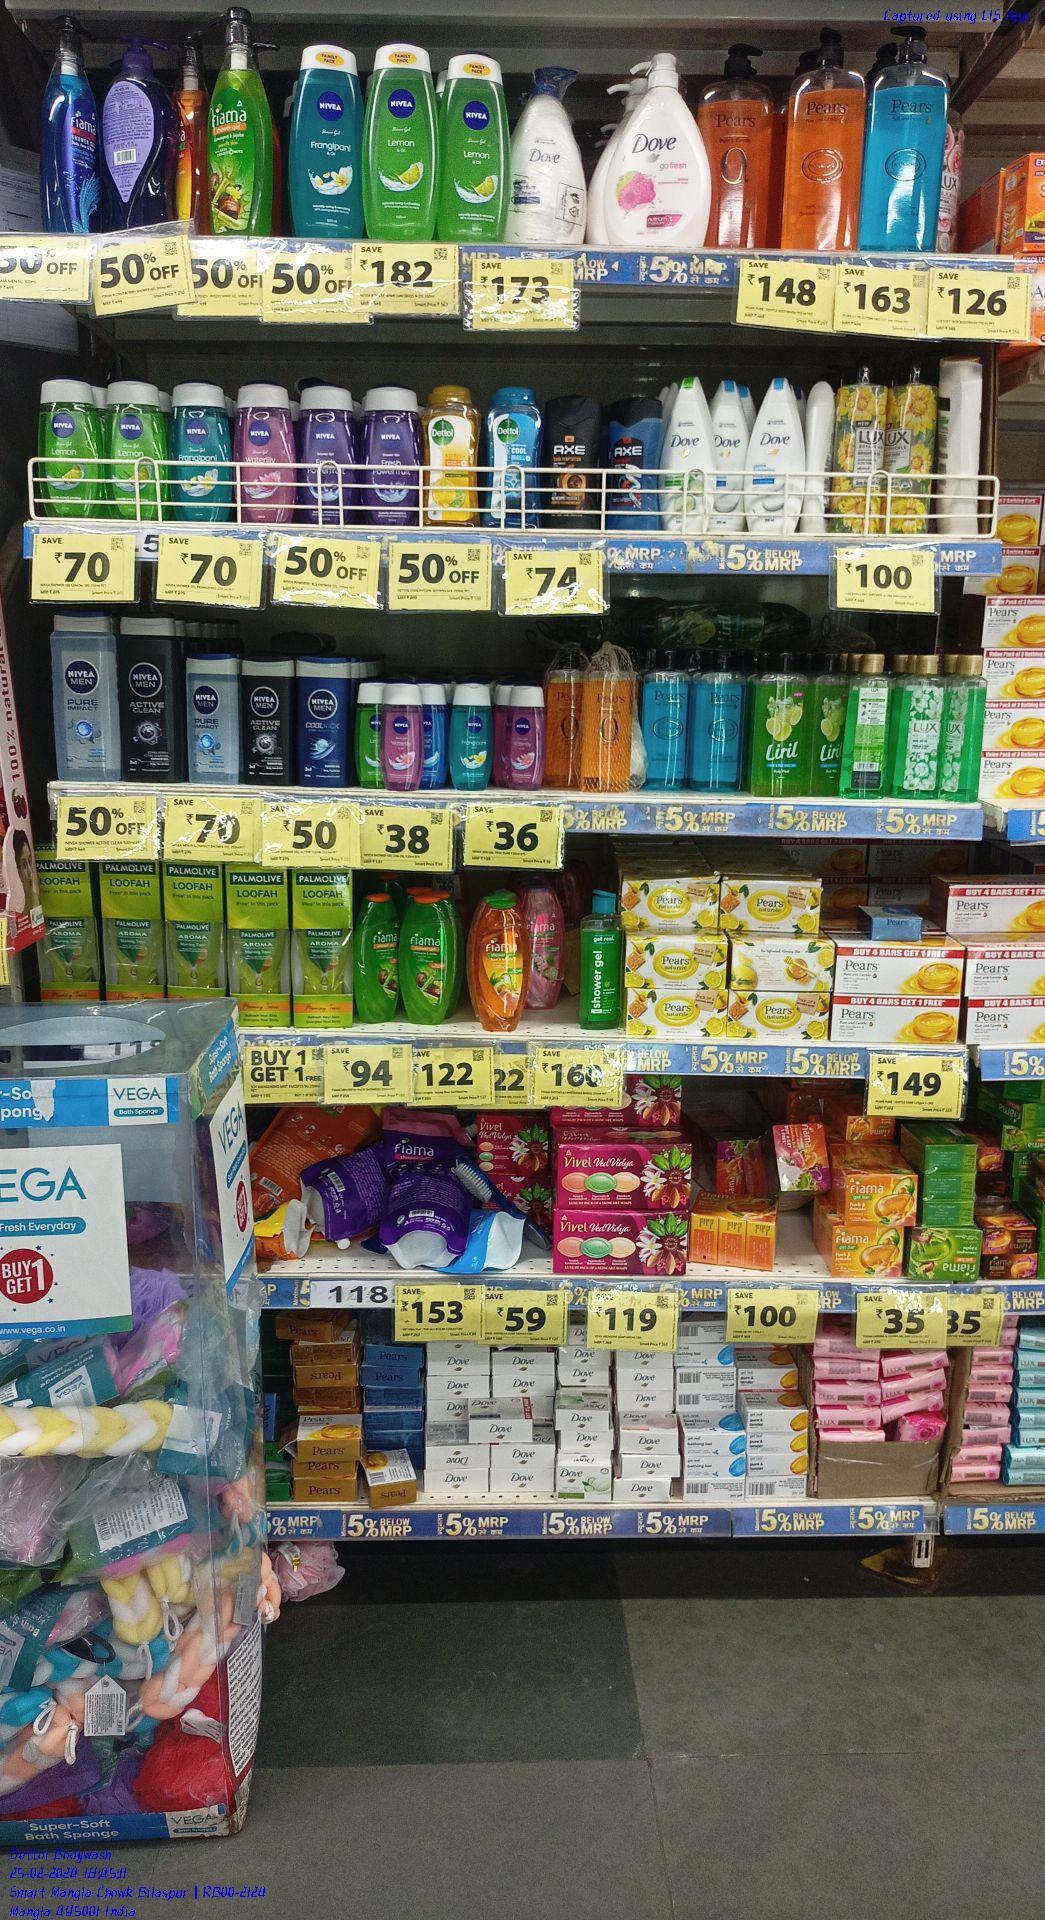Dettol_Bodywash_Cool: (484, 385, 542, 530)
Dettol_Bodywash_Refresh: (422, 382, 481, 525)
Dove_Refreshing_Body_Wash_250ML: (746, 376, 803, 531), (661, 376, 712, 530), (708, 377, 745, 533)
Fiama_Shower_Gel_Lemongrass_and_Jojoba_250ML: (399, 892, 457, 1023), (355, 891, 400, 1023)
Fiama_Shower_Gel_Peach_and_Avocado_250ML: (470, 897, 532, 1032)
Lux_Body_Wash_Skin_Detox_Freesia_Scent_and_Alove_Vera_245ML: (888, 652, 946, 800), (939, 651, 986, 803)
Nivea_Shower_Gel_Frangipani_and_Oil_250ML: (288, 46, 362, 238), (170, 380, 233, 522), (449, 679, 490, 791)
Nivea_Shower_Gel_Fresh_Powerfruit_250ML: (362, 386, 422, 522), (300, 383, 359, 522)
Nivea_Shower_Gel_Lemon_and_Oil_250ML: (359, 37, 438, 245), (441, 46, 506, 247), (39, 374, 103, 517), (103, 378, 167, 519)
Nivea_Shower_Gel_Waterlily_and_Oil_250ML: (234, 383, 299, 525), (504, 682, 547, 790), (382, 681, 423, 789)
Pears_Pure_Glycerin_and_Mint_Extracts_Body_Wash_250ML: (689, 651, 745, 790), (640, 649, 689, 790)
